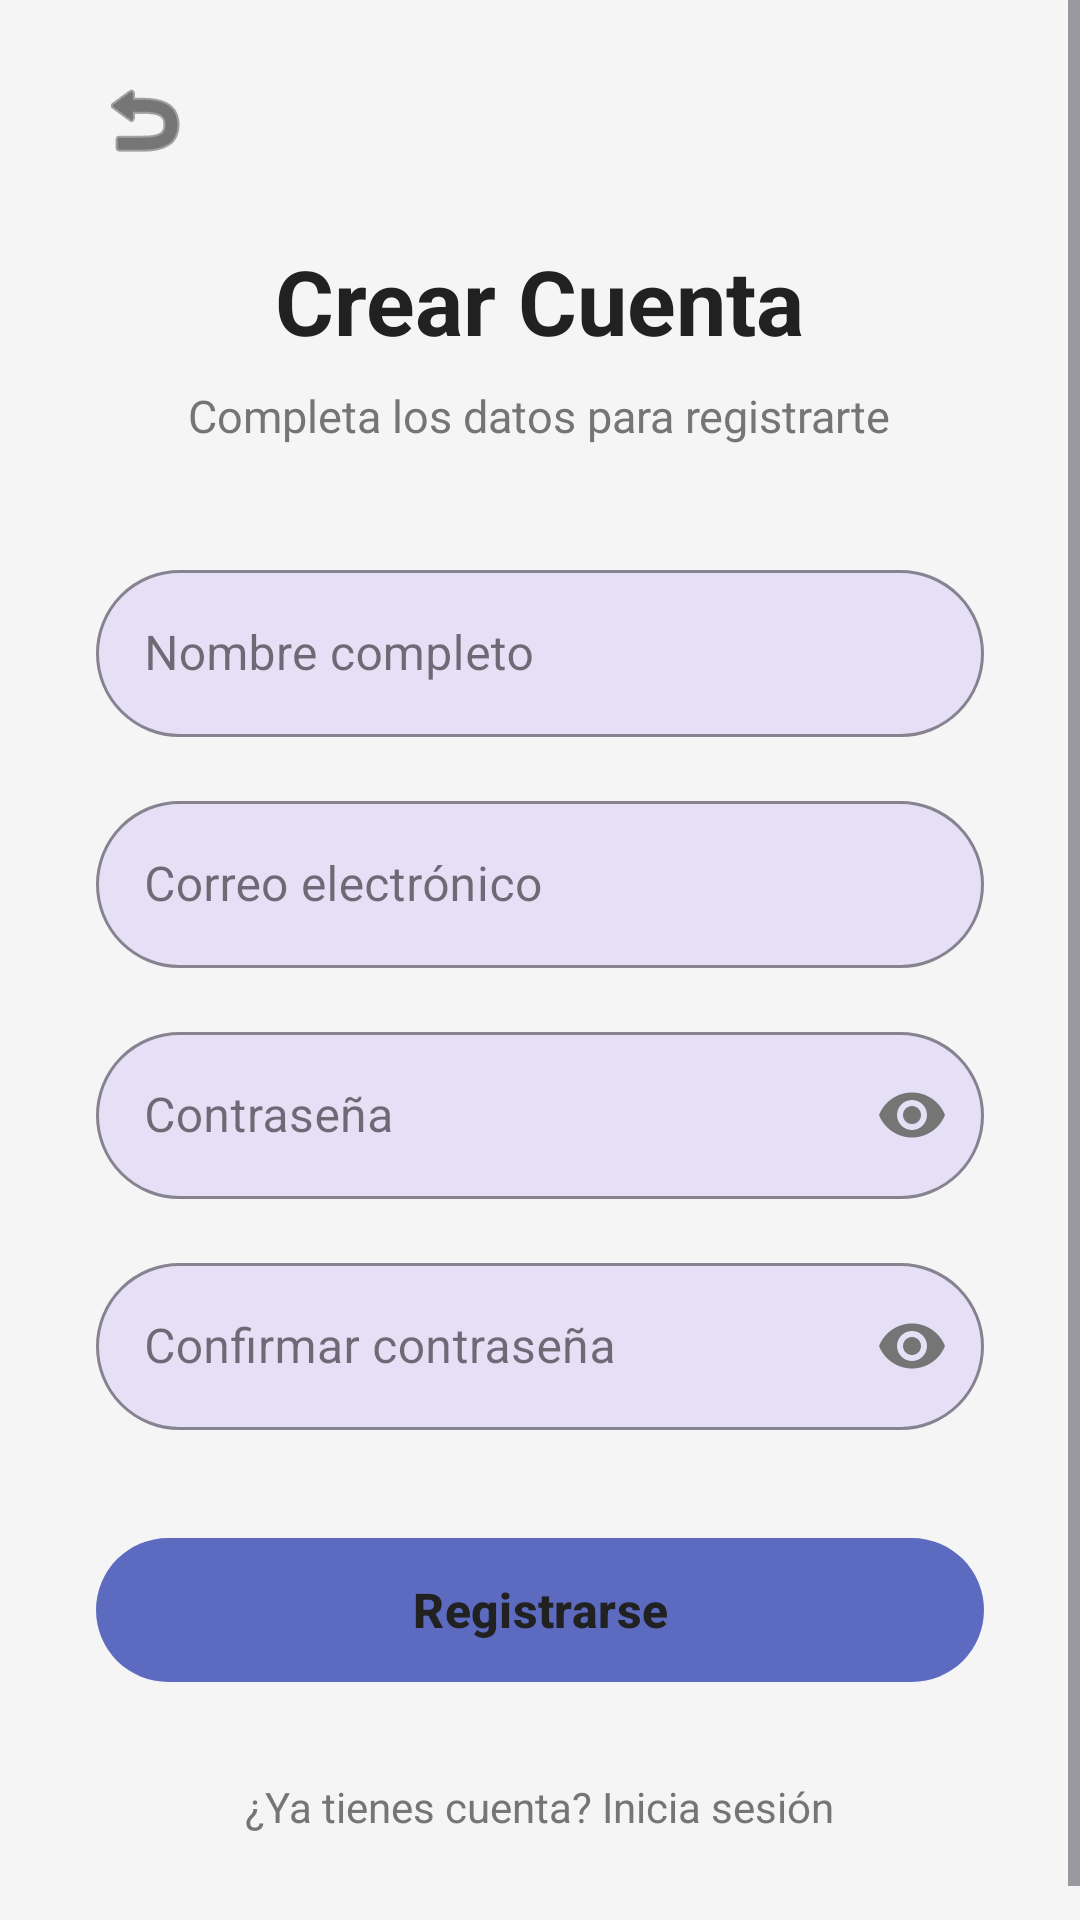

Point at icon controls on the screen. Image size 1080px x 1920px, points as [x,y].
Volver: [145,120]
